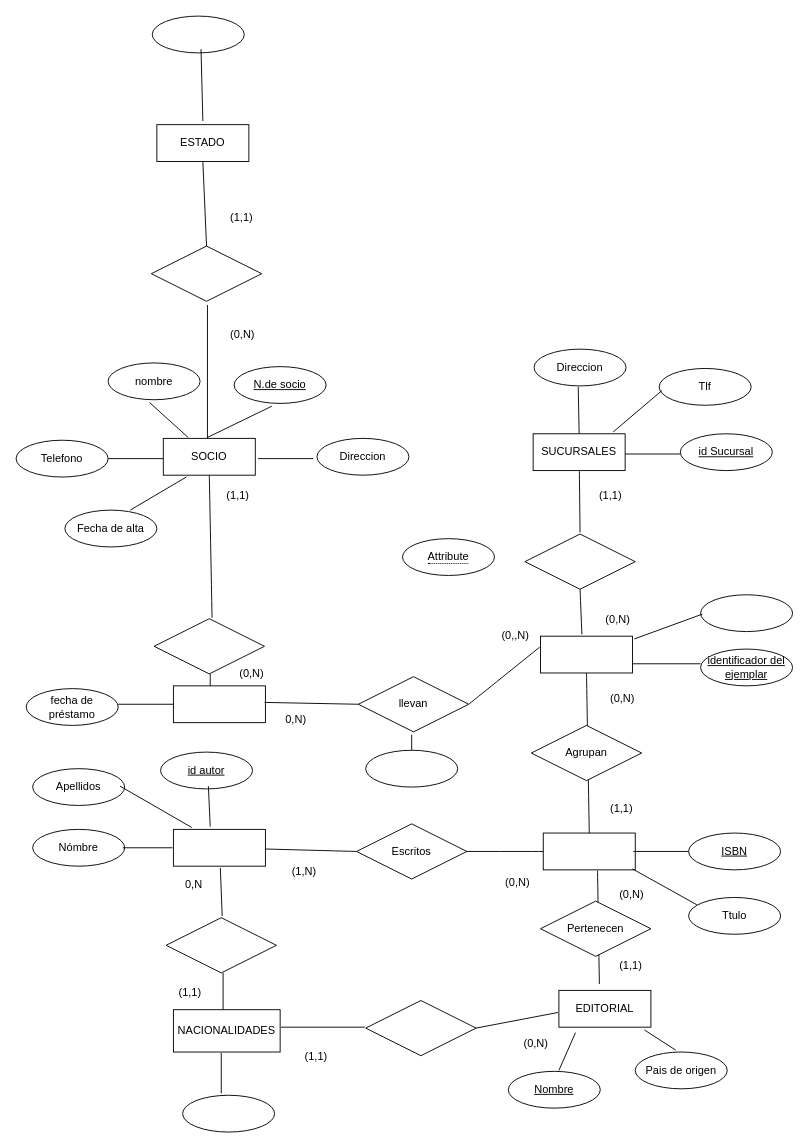
This 809x1148 diagram has some shape labels left out. The shapes that lost their labels are listed below. From the top down, each one's centre as x and y in pixels, then its label:
the point at 197,34: N. del estado
the point at 206,273: Estan
the point at 579,561: poseen
the point at 746,613: Disponible
the point at 208,646: Hacen
the point at 586,654: EJEMPLARES
the point at 218,704: PRESTAMOS
the point at 411,768: fecha de devolución
the point at 218,847: AUTORES
the point at 588,851: LIBROS
the point at 220,945: son
the point at 420,1028: Tienen
the point at 228,1113: Nombre nacionalidad
